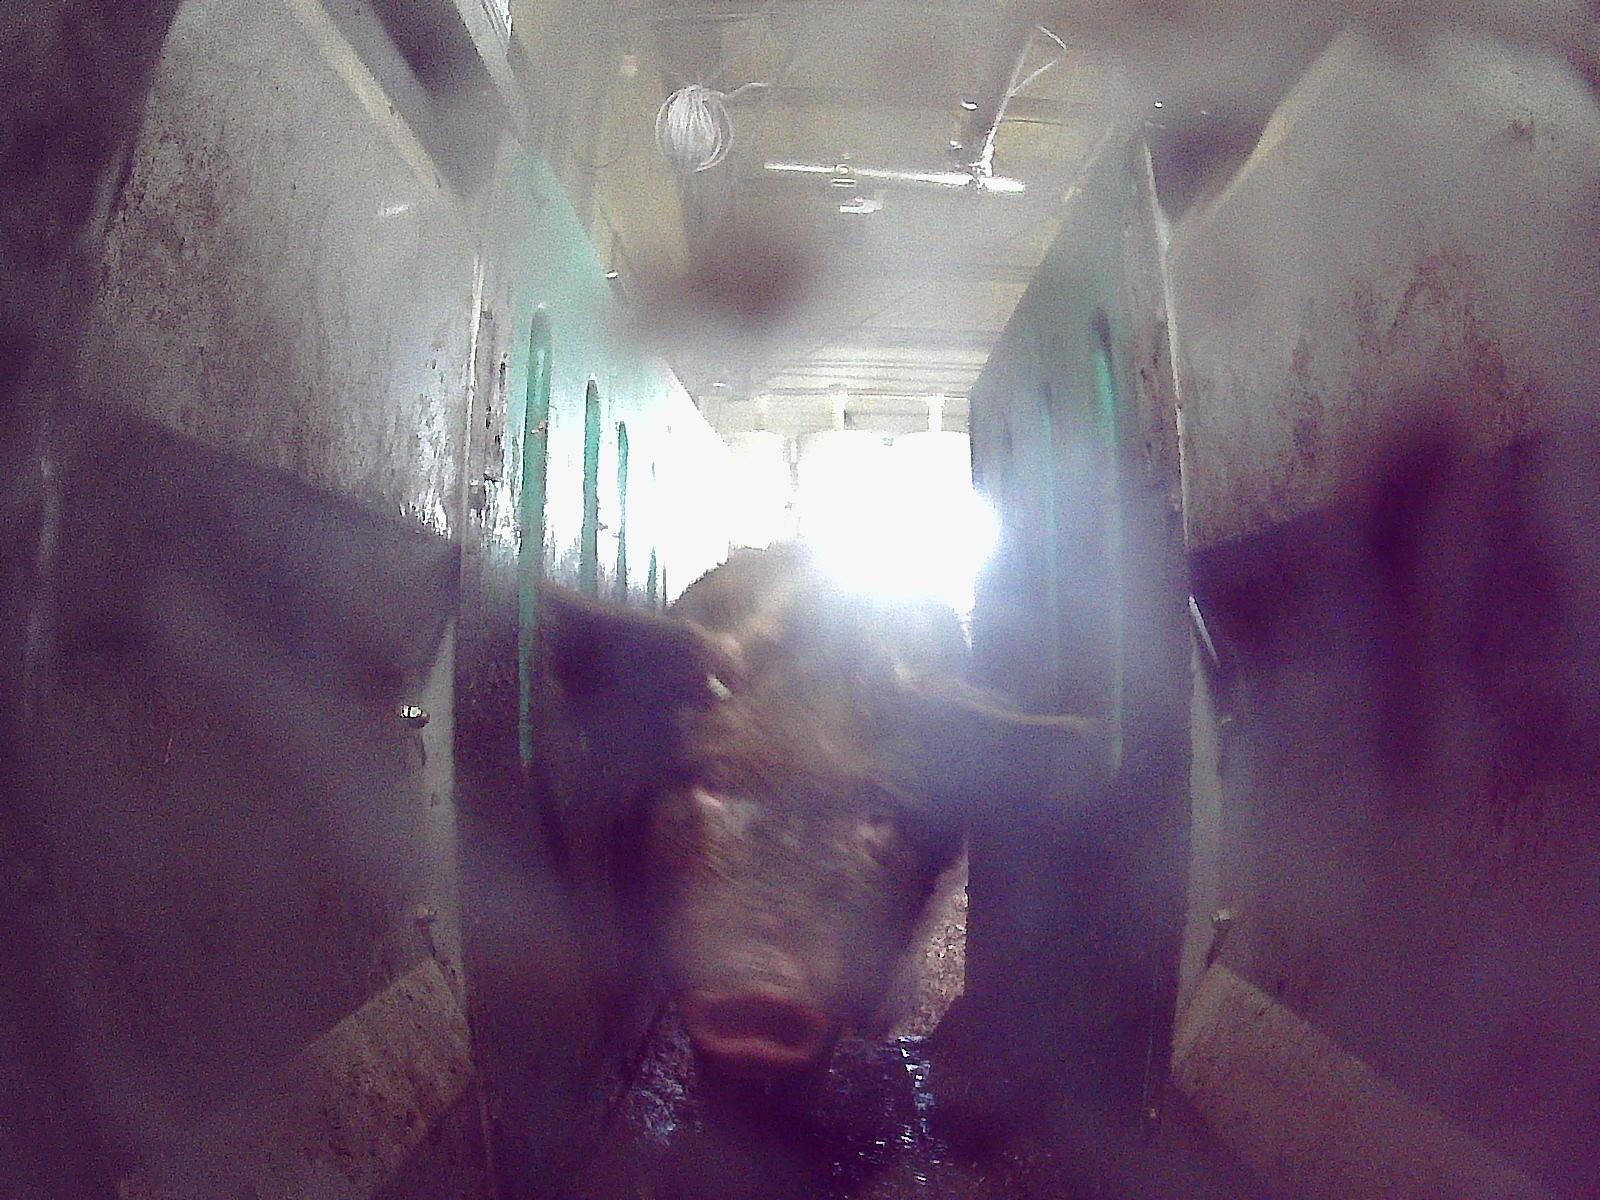Face: (633, 641, 949, 1076)
